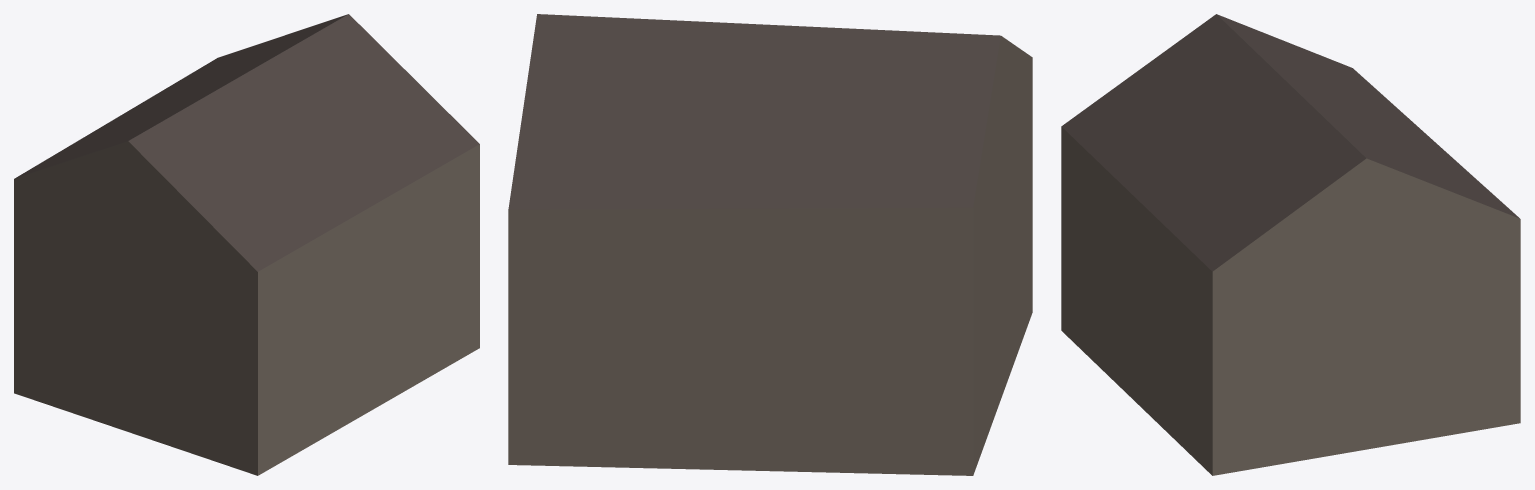
3 views of the same model, side by side, from view 1: azimuth 30°, elevation 25°; view 2: azimuth 150°, elevation 25°; view 3: azimuth 270°, elevation 25° (orthographic). The views are drawn at different scales.
Visible parts, largest first — view 1: HP-w1196978264; view 2: HP-w1196978264; view 3: HP-w1196978264.
Boxes of the visible parts, bbox=[...] form: HP-w1196978264: bbox=[14, 14, 479, 475]; HP-w1196978264: bbox=[508, 14, 1032, 475]; HP-w1196978264: bbox=[1061, 14, 1520, 475].
Size of the model in its own units: 12.18 by 8.55 by 12.23.
